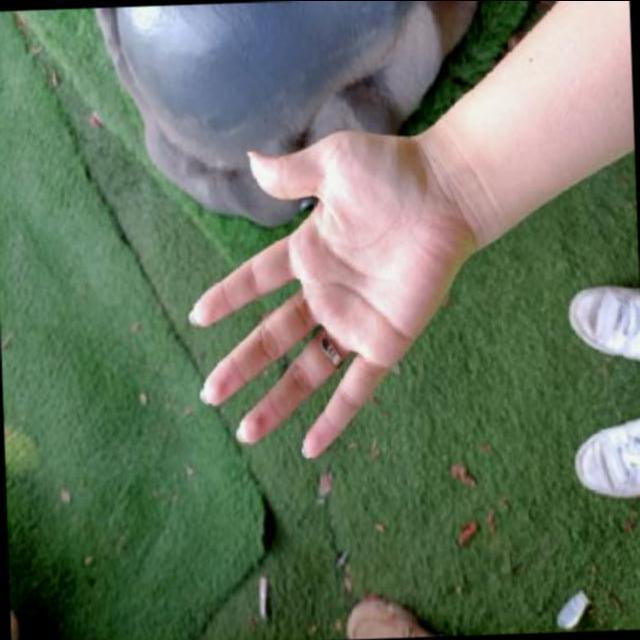hand: (166, 106, 483, 480)
